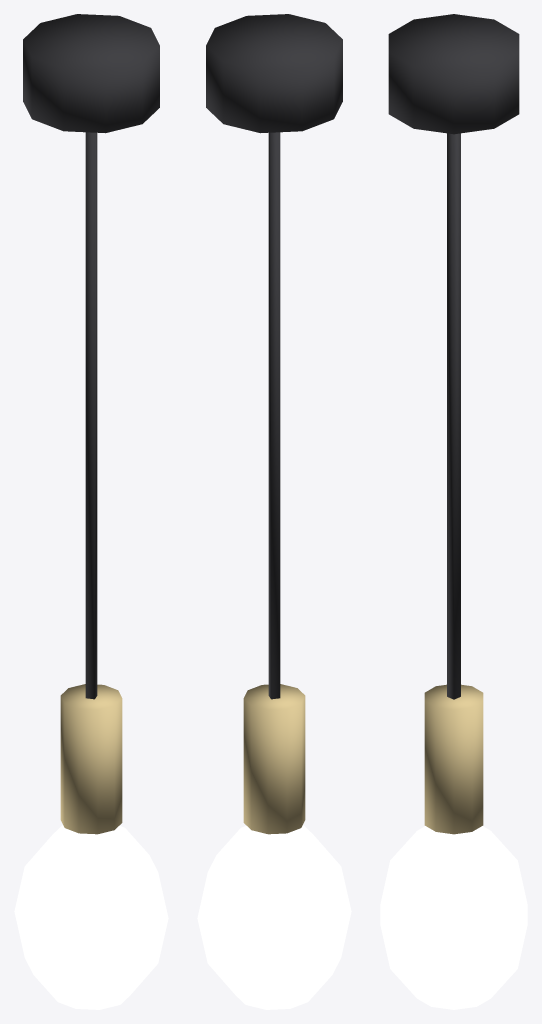
The model's file is ceiling_bulb.glb.
3 renders of one model, left to right at view 1: azimuth 30°, elevation 25°; view 2: azimuth 150°, elevation 25°; view 3: azimuth 270°, elevation 25°, orthographic.
Parts seen in each view (by area): view 1: ceiling_bulb; view 2: ceiling_bulb; view 3: ceiling_bulb.
Part boxes in pixels (bbox=[...]): ceiling_bulb: bbox=[14, 14, 168, 1009]; ceiling_bulb: bbox=[197, 14, 351, 1009]; ceiling_bulb: bbox=[380, 14, 527, 1009].
Bounding box in the file's own units: 0.0902 × 0.6185 × 0.0858.
